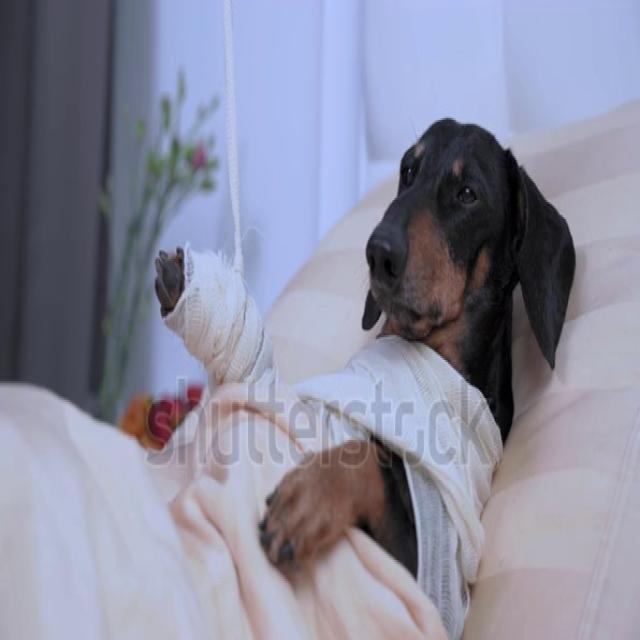injured-animals: (121, 78, 583, 640)
